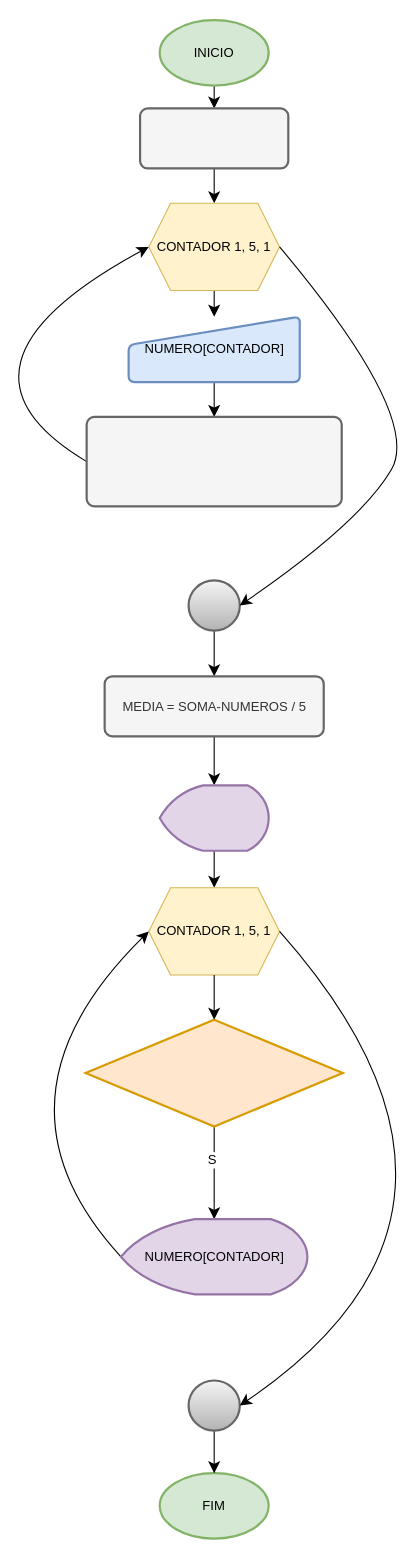
Image size: 416x1558. Some labels were removed from this diagram. Here are the shapes that lost their labels. From the top down, the centre of each, then its label:
the point at 213,138: NUMEROS[5] MEDIA = 0 SOMA-NUMEROS = 0
the point at 213,461: SOMA-NUMEROS = SOMA-NUMEROS + NUMERO[CONTADOR]
the point at 213,817: MEDIA
the point at 213,1072: NUMERO[CONTADOR] > MEDIA
